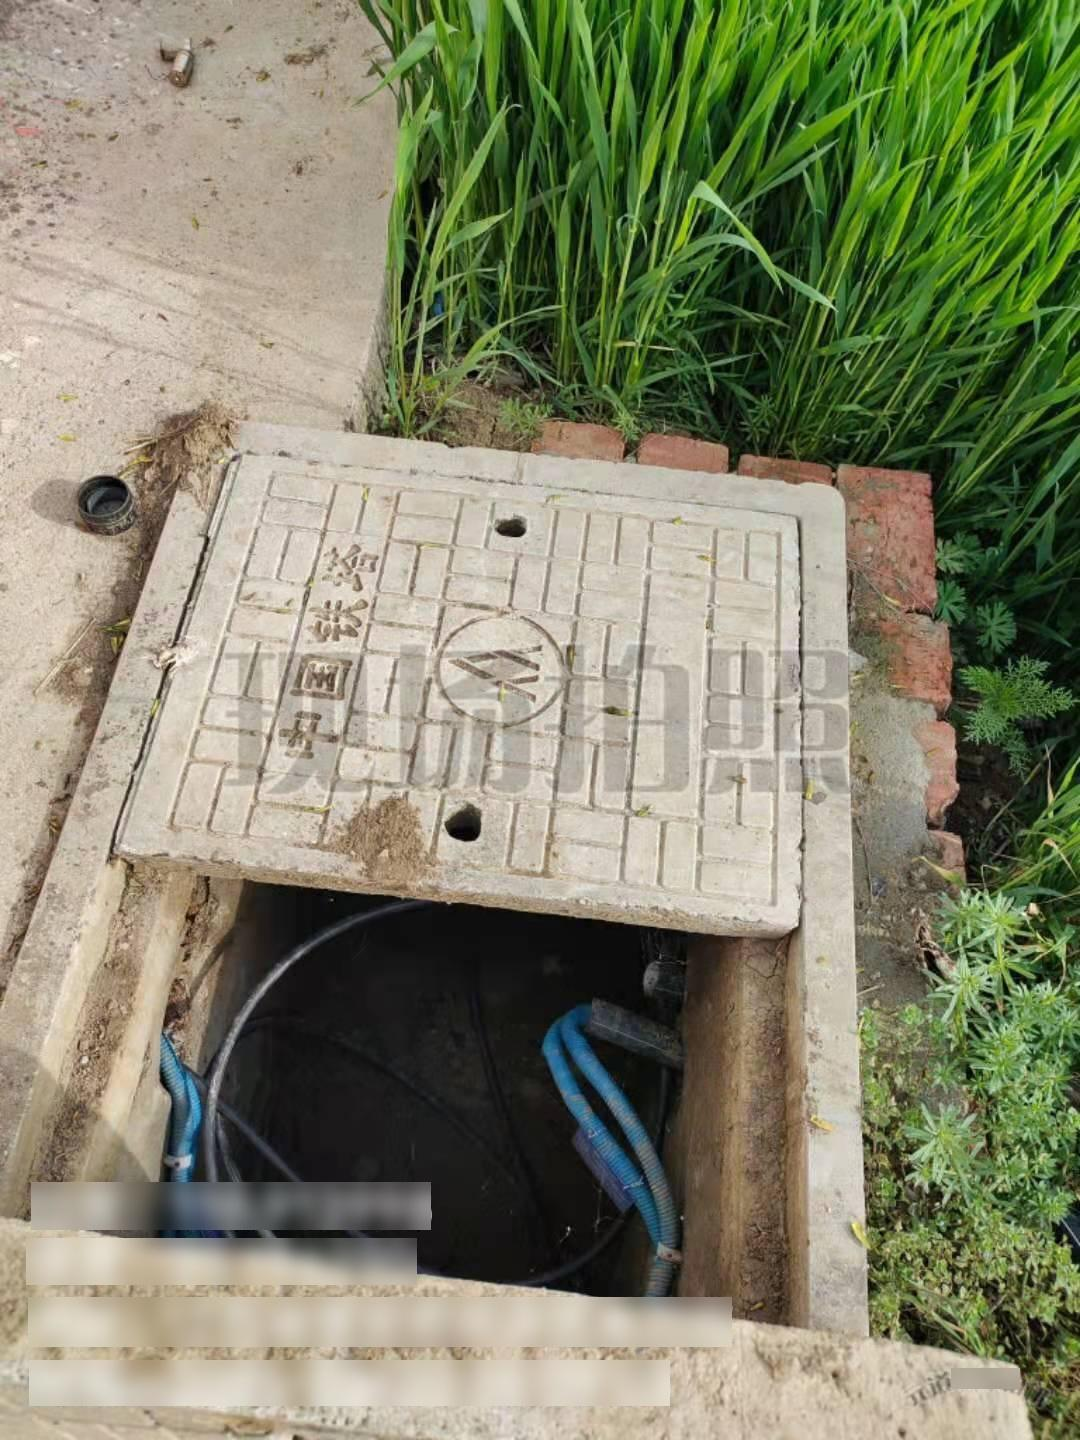wellcover: (31, 418, 973, 1416)
